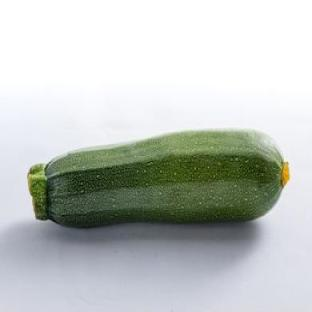Zucchini: (28, 130, 288, 226)
